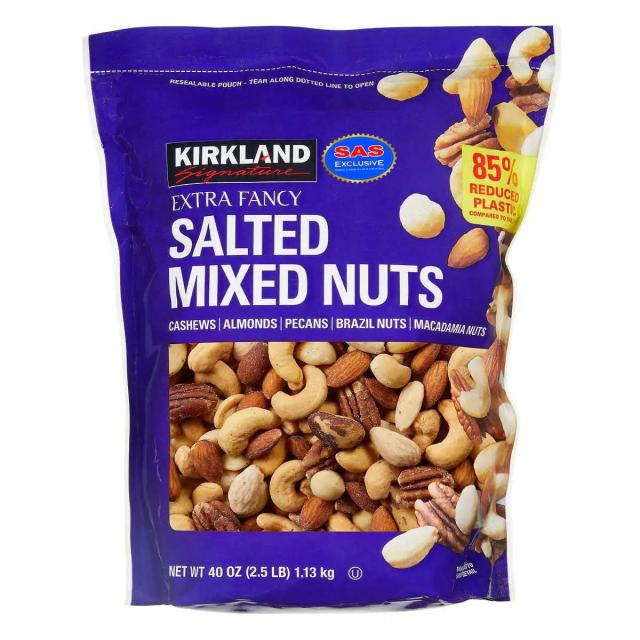food-package: (101, 35, 528, 601)
